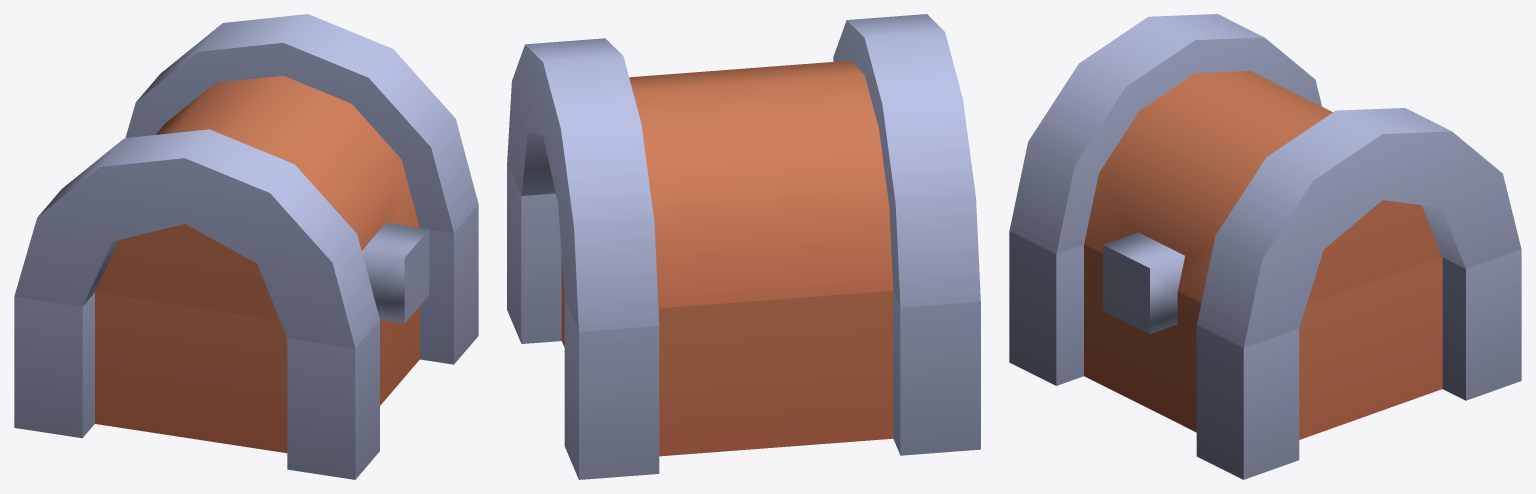
Rendered from crate.glb.
The picture shows the model from 3 angles, left to right: view 1: azimuth 30°, elevation 25°; view 2: azimuth 150°, elevation 25°; view 3: azimuth 270°, elevation 25°; orthographic projection. The views are drawn at different scales.
Parts seen in each view (by area): view 1: chest; view 2: chest; view 3: chest.
Part boxes in pixels (left/top/right/bottom): chest: left=14, top=14, right=478, bottom=479; chest: left=507, top=14, right=980, bottom=479; chest: left=1009, top=14, right=1521, bottom=479.
Size of the model in its own units: 1.62 by 1.04 by 1.62.
1 material, 1 textured.
